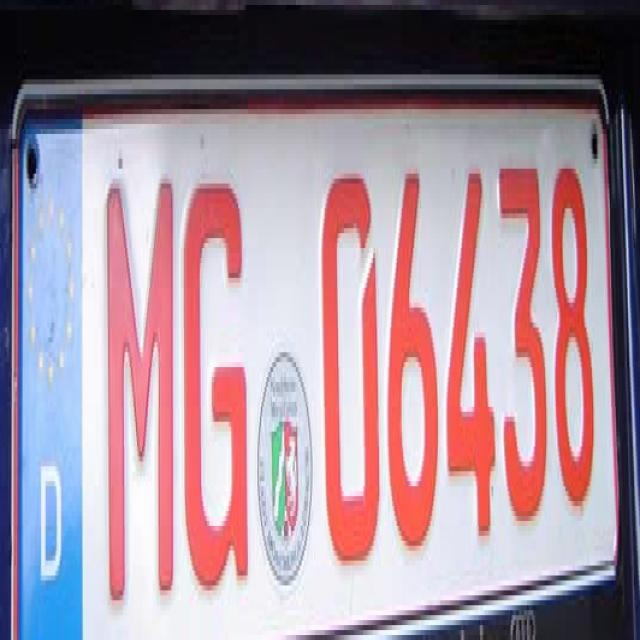Allemagne: (16, 111, 85, 634)
EU: (15, 104, 619, 634)
